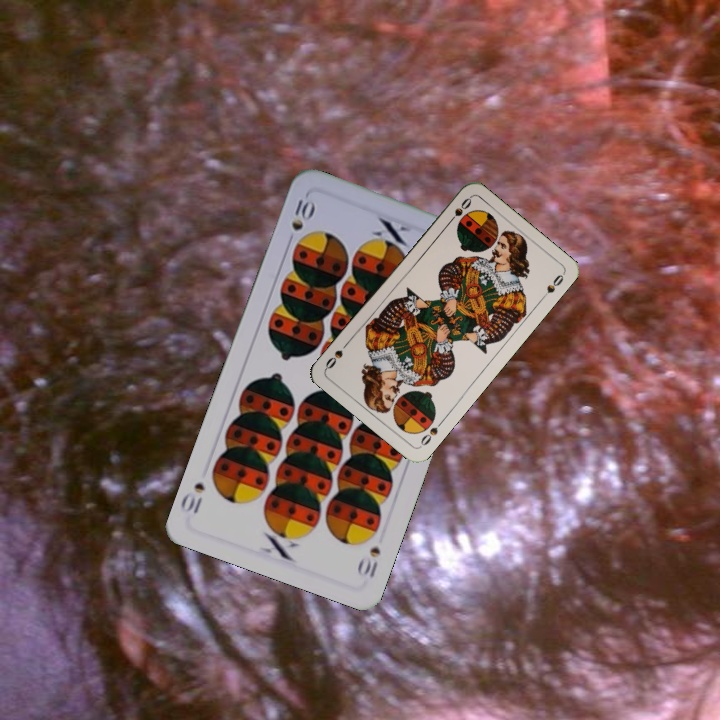S10: (283, 195, 318, 250), (353, 542, 383, 580)
SO: (443, 193, 474, 228), (416, 416, 446, 449)
